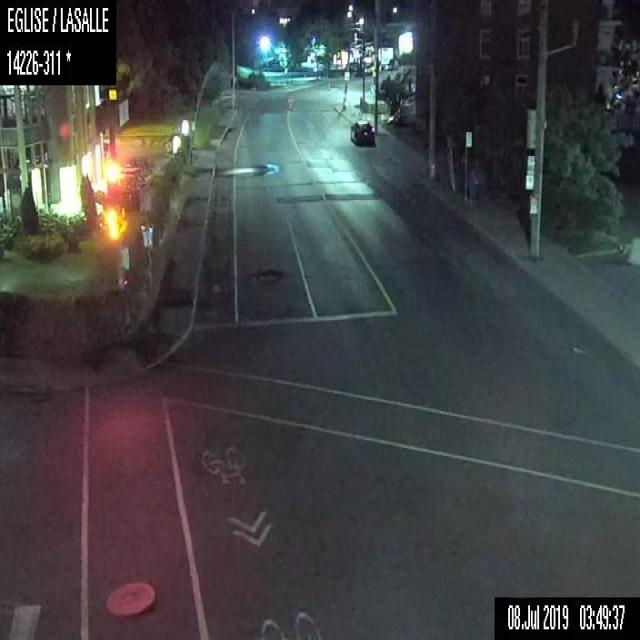vehicle: (349, 119, 374, 144)
